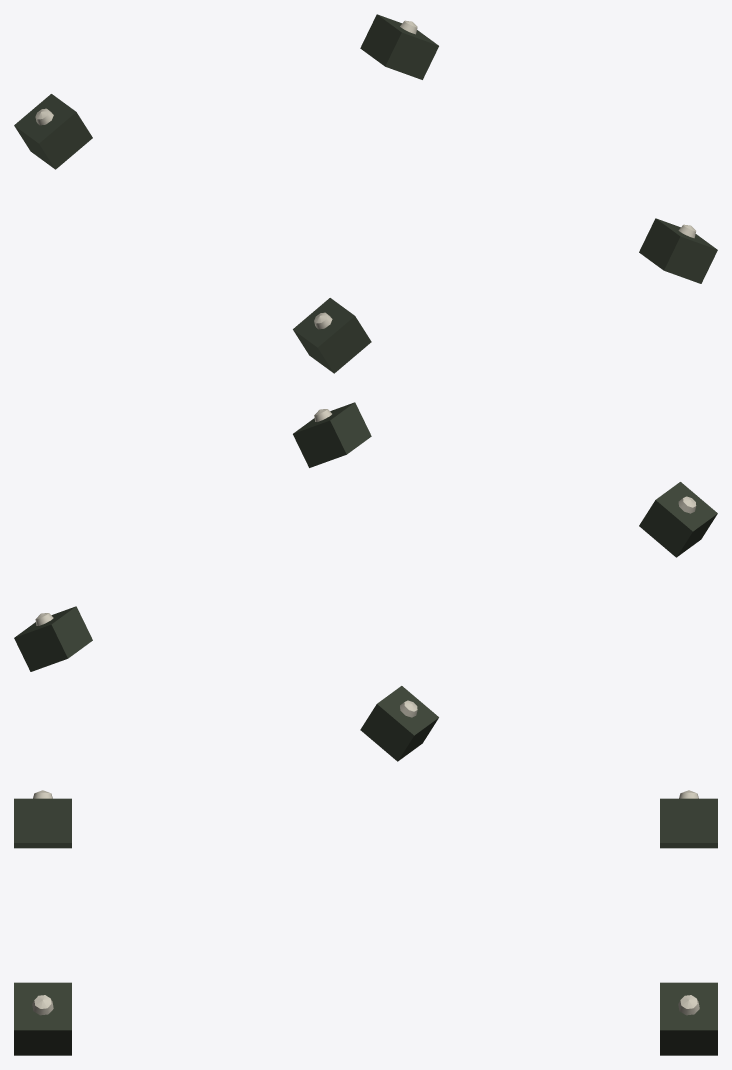
The model's file is tz11_sensors.obj.
3 renders of one model, top to bottom at view 1: azimuth 30°, elevation 25°; view 2: azimuth 150°, elevation 25°; view 3: azimuth 270°, elevation 25°, orthographic. The views are drawn at different scales.
Visible parts, largest first — view 1: tz11_sensors; view 2: tz11_sensors; view 3: tz11_sensors.
Boxes of the visible parts, x1=… form: tz11_sensors: x1=14, y1=14, x2=717, y2=373; tz11_sensors: x1=14, y1=402, x2=717, y2=761; tz11_sensors: x1=14, y1=790, x2=717, y2=1055.
Bounding box in the file's own units: 2.41 × 0.3032 × 3.16.
